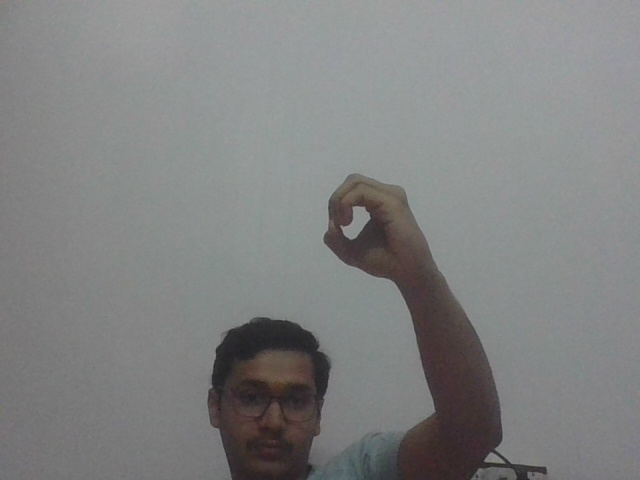O: (323, 166, 425, 280)
